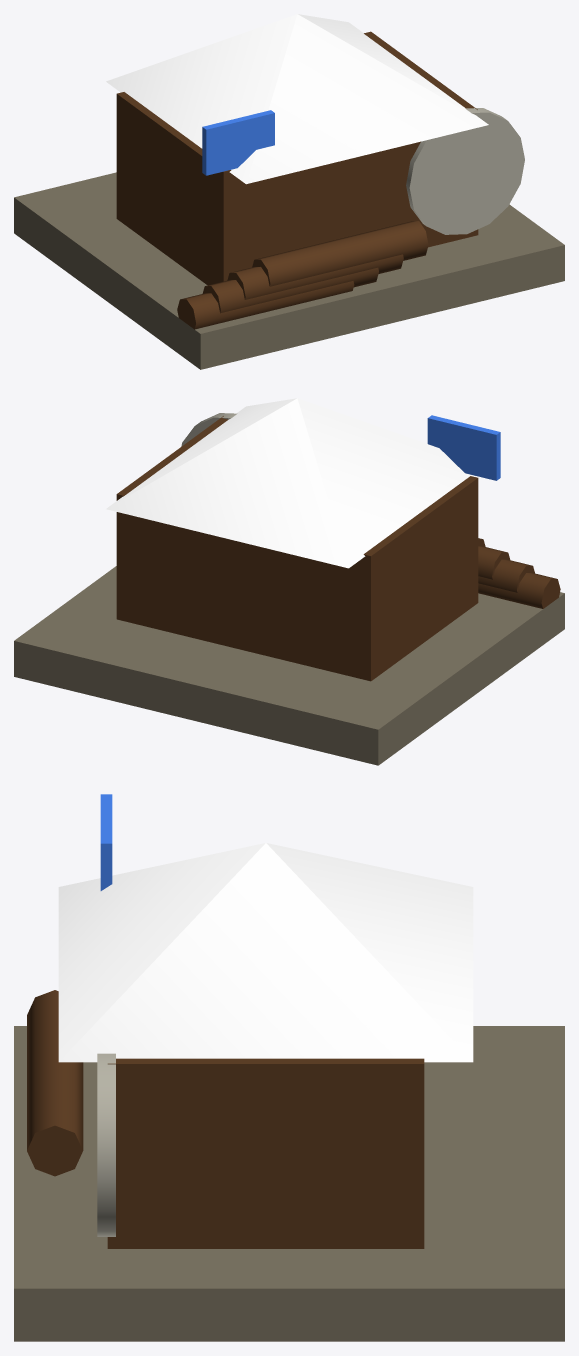
File: lumber_mill.glb
3 renders of one model, top to bottom at view 1: azimuth 30°, elevation 25°; view 2: azimuth 150°, elevation 25°; view 3: azimuth 270°, elevation 25°, orthographic. The views are drawn at different scales.
Visible parts, largest first — view 1: lumber-mill-stone-base, lumber-mill-roof, lumber-mill-saw-house, lumber-mill-saw-wheel, lumber-mill-log-3, lumber-mill-team-banner, lumber-mill-log-0, lumber-mill-log-1, lumber-mill-log-2; view 2: lumber-mill-stone-base, lumber-mill-saw-house, lumber-mill-roof, lumber-mill-team-banner, lumber-mill-log-0, lumber-mill-log-1, lumber-mill-log-2; view 3: lumber-mill-stone-base, lumber-mill-roof, lumber-mill-saw-house, lumber-mill-log-3, lumber-mill-saw-wheel, lumber-mill-team-banner.
Part boxes in pixels (box(x1,y1,x2,y2)): lumber-mill-stone-base: box(14, 172, 564, 369); lumber-mill-roof: box(106, 14, 488, 184); lumber-mill-saw-house: box(116, 31, 478, 285); lumber-mill-saw-wheel: box(406, 108, 524, 234); lumber-mill-log-3: box(252, 221, 428, 286); lumber-mill-team-banner: box(202, 110, 274, 175); lumber-mill-log-0: box(177, 281, 354, 329); lumber-mill-log-1: box(202, 267, 378, 313); lumber-mill-log-2: box(227, 254, 403, 299); lumber-mill-stone-base: box(14, 566, 564, 765); lumber-mill-saw-house: box(116, 416, 478, 681); lumber-mill-roof: box(106, 398, 474, 568); lumber-mill-team-banner: box(427, 415, 500, 480); lumber-mill-log-0: box(478, 573, 560, 608); lumber-mill-log-1: box(478, 559, 534, 592); lumber-mill-log-2: box(478, 546, 510, 579); lumber-mill-stone-base: box(14, 1026, 564, 1341); lumber-mill-roof: box(58, 843, 473, 1062); lumber-mill-saw-house: box(107, 1058, 424, 1248); lumber-mill-log-3: box(27, 1011, 83, 1176); lumber-mill-saw-wheel: box(97, 1053, 115, 1236); lumber-mill-team-banner: box(100, 794, 112, 890).
Bounding box in the file's own units: 2.65 × 1.73 × 2.35.
